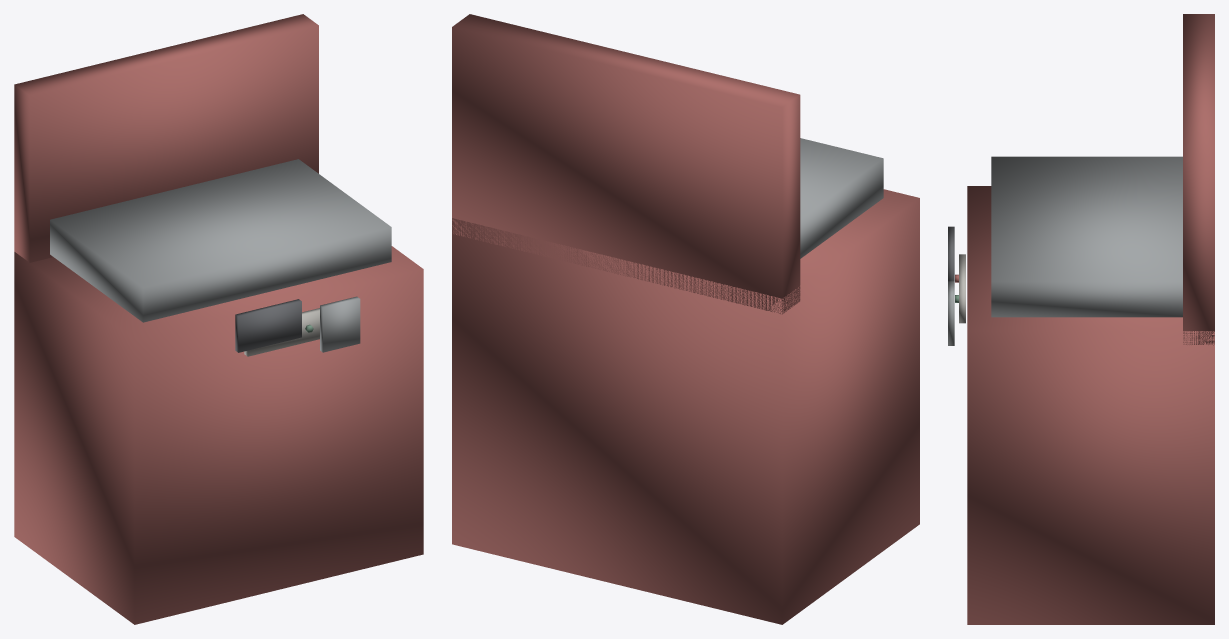
Rendered from parts_washer__weathered.glb.
The picture shows the model from 3 angles, left to right: view 1: azimuth 30°, elevation 25°; view 2: azimuth 150°, elevation 25°; view 3: azimuth 270°, elevation 25°; orthographic projection. The views are drawn at different scales.
Visible parts, largest first — view 1: world; view 2: world; view 3: world.
Part boxes in pixels (bbox=[...]): world: bbox=[14, 14, 423, 624]; world: bbox=[452, 14, 919, 624]; world: bbox=[948, 14, 1214, 624].
Size of the model in its own units: 0.86 by 1.29 by 0.6683.
